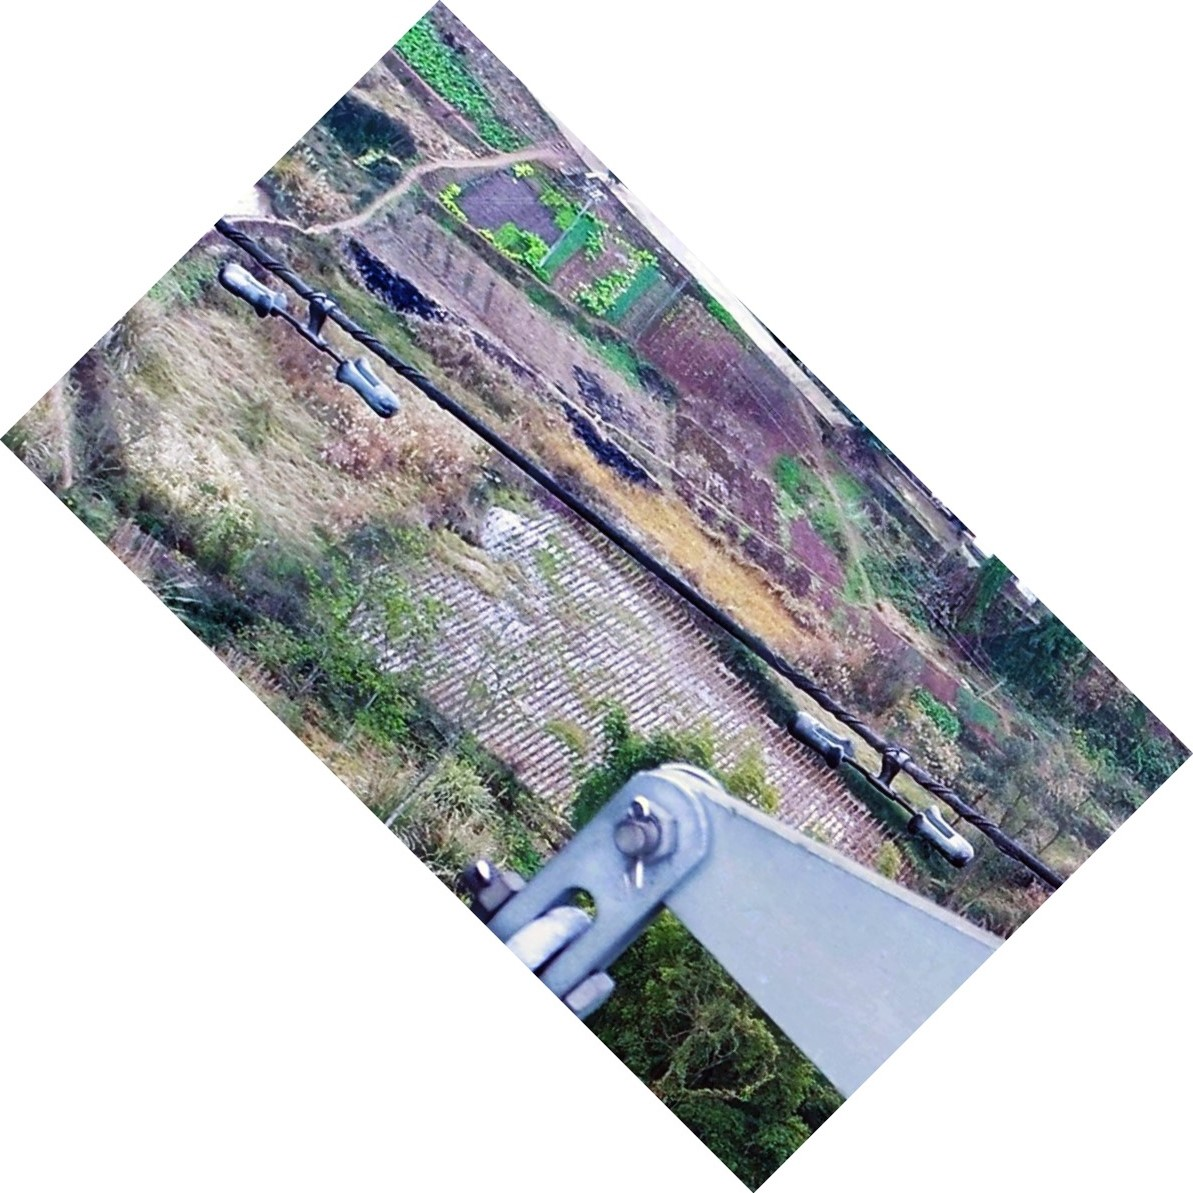Shockproof hammer: (209, 244, 413, 432), (781, 695, 987, 872)
